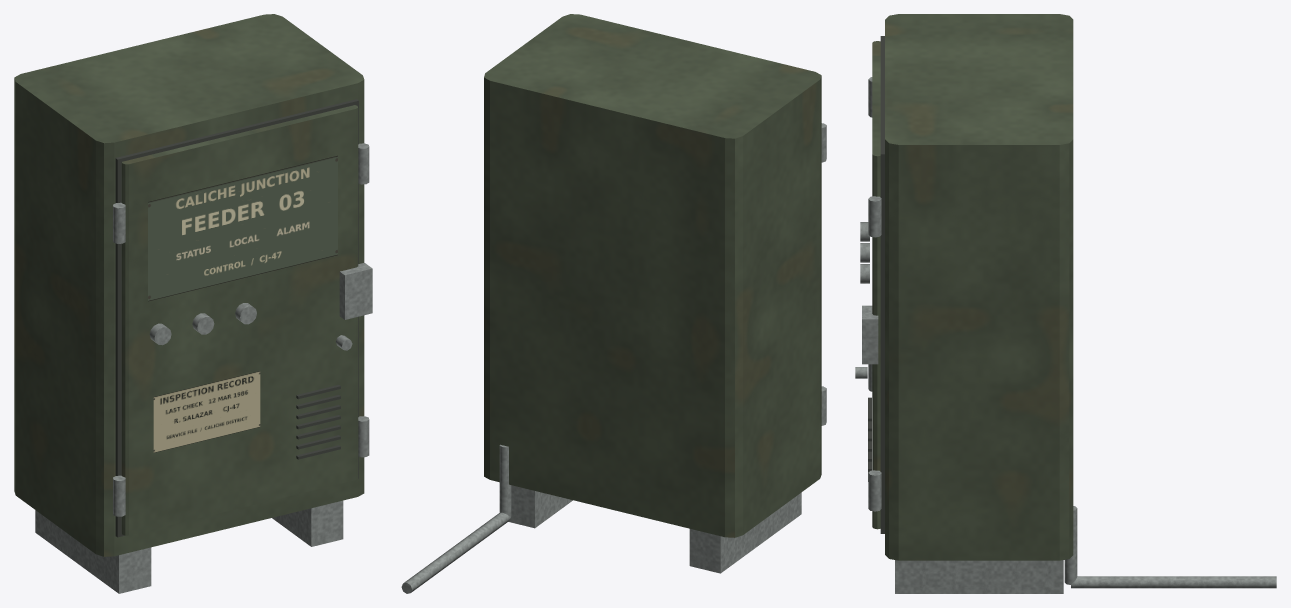
The model's file is SM_Substation_Control_LOD1.fbx.
3 renders of one model, left to right at view 1: azimuth 30°, elevation 25°; view 2: azimuth 150°, elevation 25°; view 3: azimuth 270°, elevation 25°, orthographic. The views are drawn at different scales.
Parts seen in each view (by area): view 1: SM_Substation_Control_LOD1; view 2: SM_Substation_Control_LOD1; view 3: SM_Substation_Control_LOD1.
Part boxes in pixels (x1=…): SM_Substation_Control_LOD1: x1=14, y1=14, x2=372, y2=593; SM_Substation_Control_LOD1: x1=401, y1=14, x2=826, y2=593; SM_Substation_Control_LOD1: x1=855, y1=14, x2=1276, y2=593.
Size of the model in its own units: 1.25 by 1.7 by 2.05.
